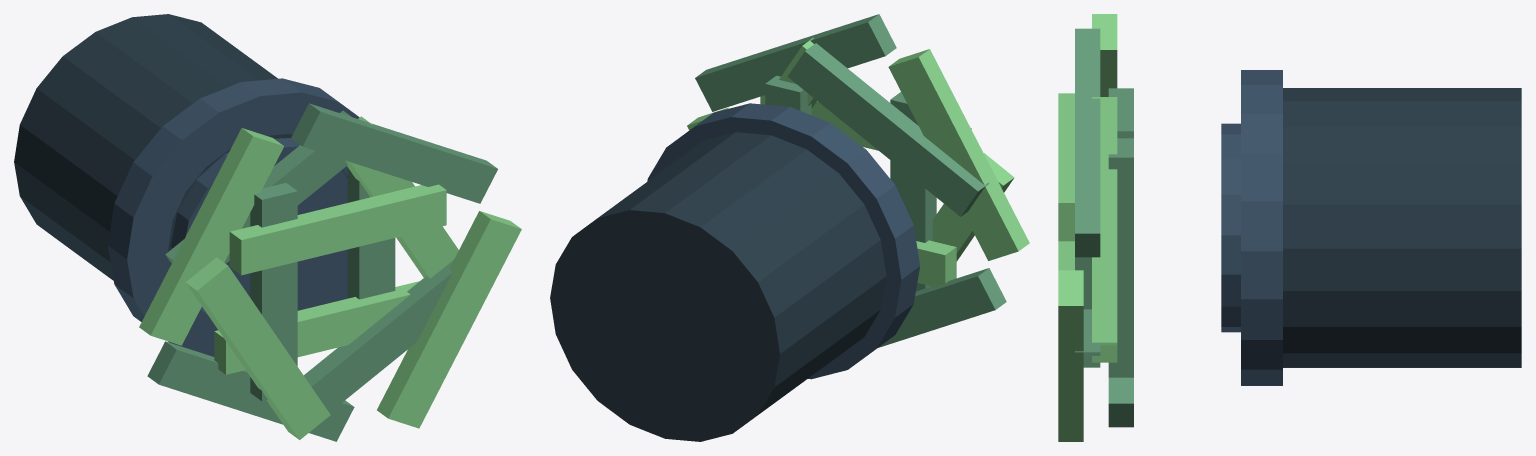
Rendered from potted_plant.glb.
The picture shows the model from 3 angles, left to right: view 1: azimuth 30°, elevation 25°; view 2: azimuth 150°, elevation 25°; view 3: azimuth 270°, elevation 25°; orthographic projection. The views are drawn at different scales.
Parts seen in each view (by area): view 1: potted_plant; view 2: potted_plant; view 3: potted_plant.
Part boxes in pixels (x1,y1,x2,y2): potted_plant: (14, 14, 521, 441); potted_plant: (550, 14, 1029, 441); potted_plant: (1058, 14, 1521, 441).
Size of the model in its own units: 0.32 by 0.3 by 0.33.
